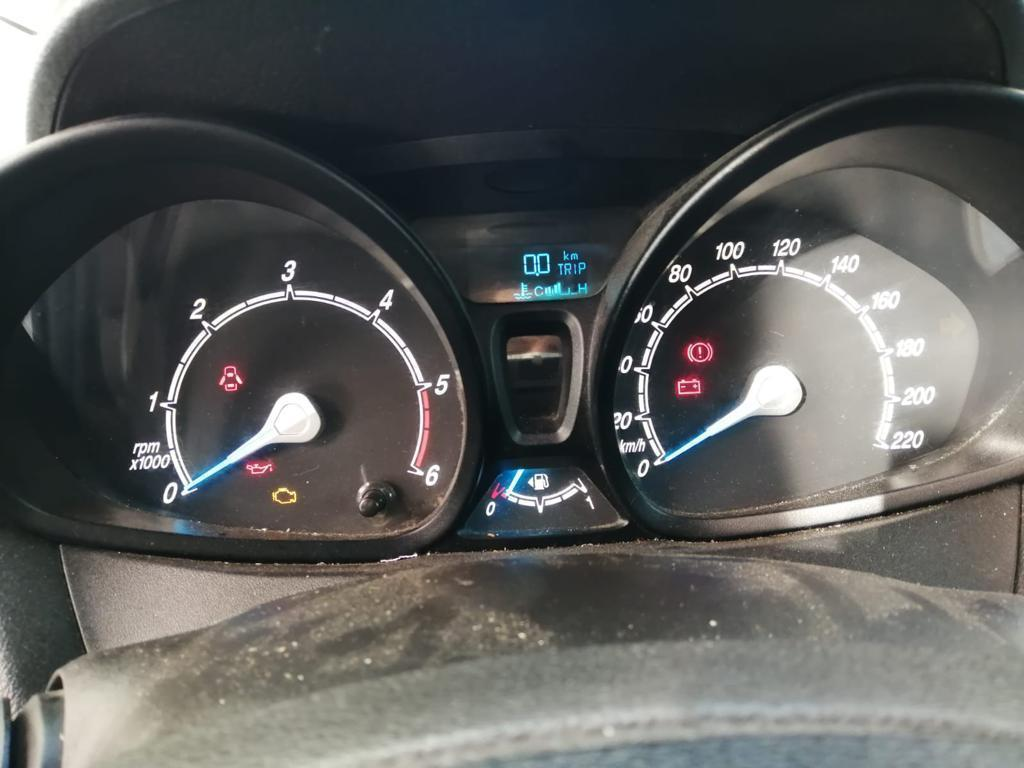,: (535, 272, 539, 276)
0: (522, 253, 536, 275), (536, 252, 550, 273)
X: (577, 261, 586, 275), (577, 282, 587, 294), (563, 262, 572, 275), (533, 285, 543, 296), (556, 262, 563, 275), (570, 252, 579, 260), (562, 250, 569, 260), (572, 262, 577, 275)
odometer: (469, 242, 609, 303)
